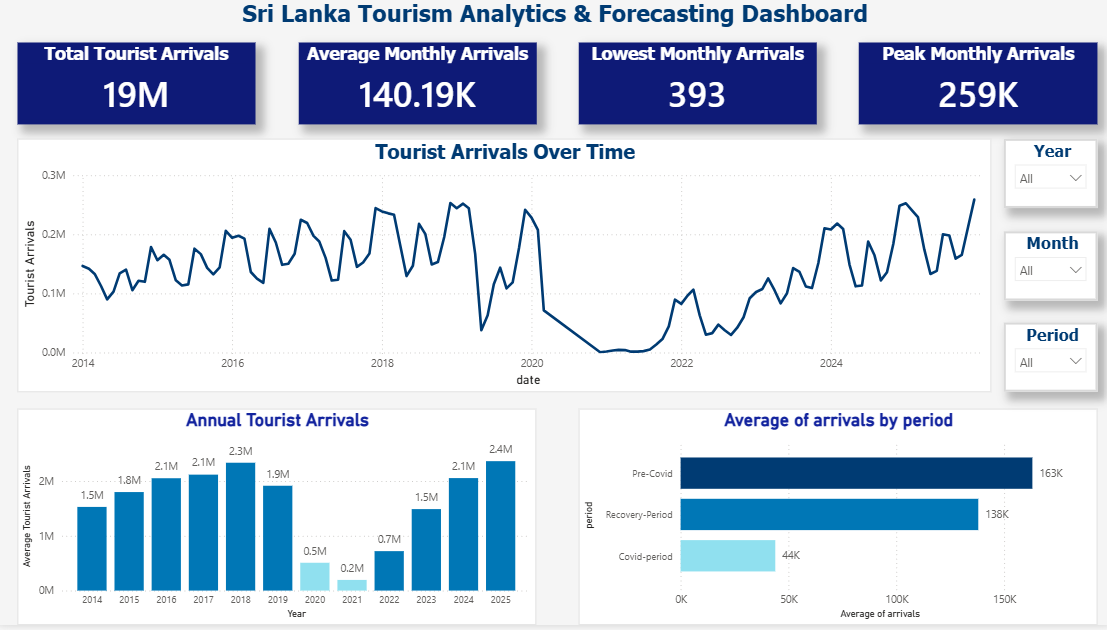

This screenshot's page, from the dashboard's own definition file:
{"tool":"powerbi","page":{"name":"Executive Overview","canvas":[1280,720],"ordinal":0},"visuals":[{"type":"cardVisual","title":"Total Tourist Arrivals","fields":{"Data":["Sum(final_tourism_dashboard_dataset.arrivals)"]},"box":[26.3,54.1,271.7,93.3],"z":0},{"type":"cardVisual","title":"Average Monthly Arrivals","fields":{"Data":["Avg(final_tourism_dashboard_dataset.arrivals)"]},"box":[346.5,54.1,271.7,93.3],"z":1000},{"type":"cardVisual","title":"Peak Monthly Arrivals","fields":{"Data":["Max(final_tourism_dashboard_dataset.arrivals)"]},"box":[986.9,54.1,273.1,93.3],"z":2000},{"type":"cardVisual","title":"Lowest Monthly Arrivals","fields":{"Data":["Min(final_tourism_dashboard_dataset.arrivals)"]},"box":[666.7,54.1,271.7,93.3],"z":3000},{"type":"lineChart","title":"Tourist Arrivals Over Time","fields":{"Y":["Sum(final_tourism_dashboard_dataset.arrivals)"],"Category":["final_tourism_dashboard_dataset.date"]},"box":[26.1,164.7,1112.9,289.5],"z":4000},{"type":"clusteredColumnChart","title":"Annual Tourist Arrivals","fields":{"Category":["final_tourism_dashboard_dataset.date.Variation.Date Hierarchy.Year"],"Y":["Sum(final_tourism_dashboard_dataset.arrivals)"]},"box":[26.1,473.4,592.8,247],"z":5000},{"type":"clusteredBarChart","fields":{"Y":["Avg(final_tourism_dashboard_dataset.arrivals)"],"Category":["final_tourism_dashboard_dataset.period"]},"box":[666.9,473.4,592.8,247],"z":6000},{"type":"textbox","box":[0,0,1280.3,56.3],"z":7000},{"type":"slicer","title":"Year","fields":{"Values":["final_tourism_dashboard_dataset.year"]},"box":[1152.7,164.7,107,79.6],"z":8000},{"type":"slicer","title":"Month","fields":{"Values":["final_tourism_dashboard_dataset.month"]},"box":[1152.7,270.3,107,79.6],"z":9000},{"type":"slicer","title":"Period","fields":{"Values":["final_tourism_dashboard_dataset.period"]},"box":[1152.7,374.6,107,79.6],"z":10000}]}

Visuals, with their boxes in screenshot pixels (x1, y1, x2, y2), scaled from the page's 1280x720 canvas onto the 1107x630 screenshot:
"Total Tourist Arrivals" cardVisual: 23,47,258,129
"Average Monthly Arrivals" cardVisual: 300,47,535,129
"Peak Monthly Arrivals" cardVisual: 854,47,1090,129
"Lowest Monthly Arrivals" cardVisual: 577,47,812,129
"Tourist Arrivals Over Time" lineChart: 23,144,985,397
"Annual Tourist Arrivals" clusteredColumnChart: 23,414,535,629
clusteredBarChart - Avg(final_tourism_dashboard_dataset.arrivals) x final_tourism_dashboard_dataset.period: 577,414,1089,629
textbox: 0,0,1106,49
"Year" slicer: 997,144,1089,214
"Month" slicer: 997,237,1089,306
"Period" slicer: 997,328,1089,397
